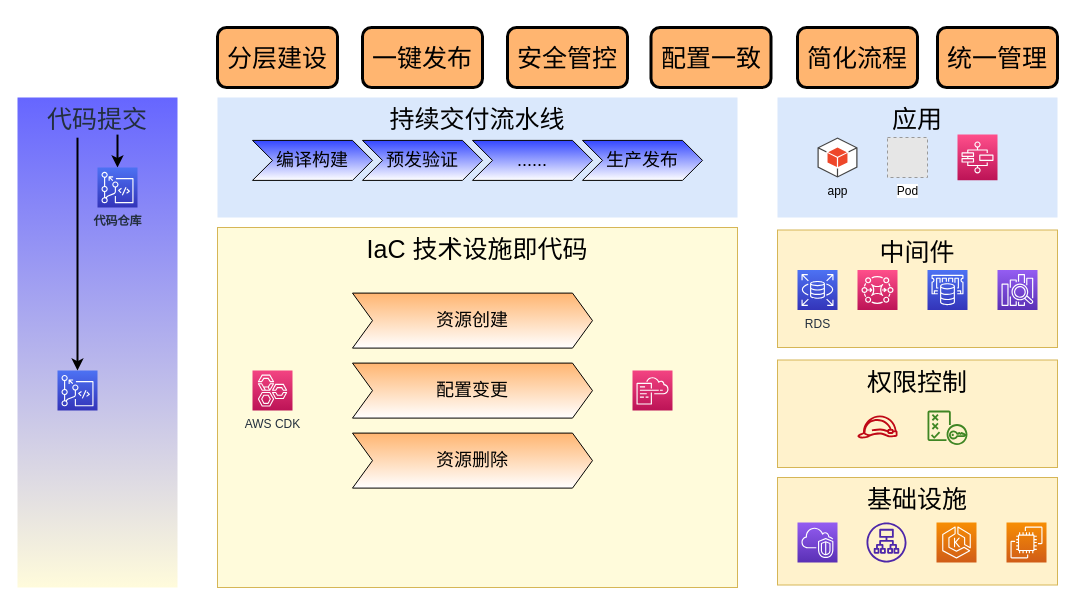
The diagram is 1076 pixels wide and 605 high, and some of its shapes have lost their labels. Grey dashed boxes stand in for pictures. The shapes that lost their labels are listed below. From the top down, each one's centre as x and y in pixels, then its label:
At [977,157]: "step function".
At [877,289]: "RabbitMQ".
At [947,289]: "ElastiCache".
At [1017,289]: "ElasticSearch".
At [77,390]: "IaC 仓库".
At [652,390]: "Cloudformation".
At [877,426]: "Role".
At [947,427]: "policy".
At [817,542]: "VPC".
At [886,542]: "ALB".
At [956,542]: "EKS".
At [1026,542]: "EC2".
